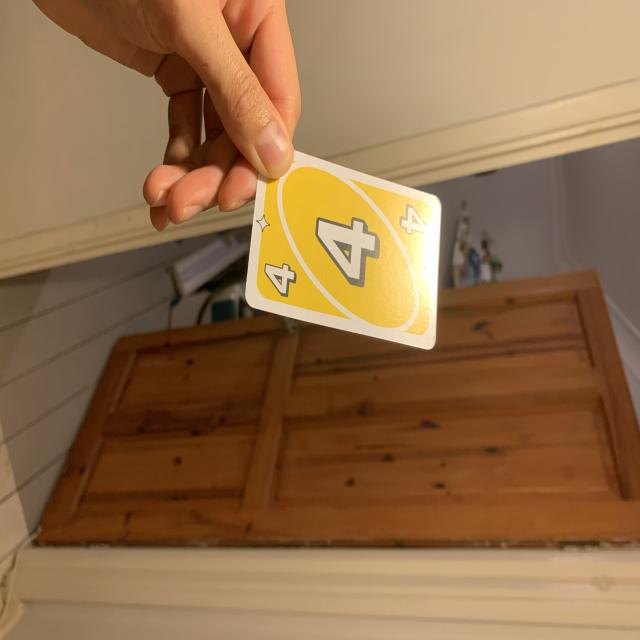lyellow-4: (390, 198, 437, 248)
